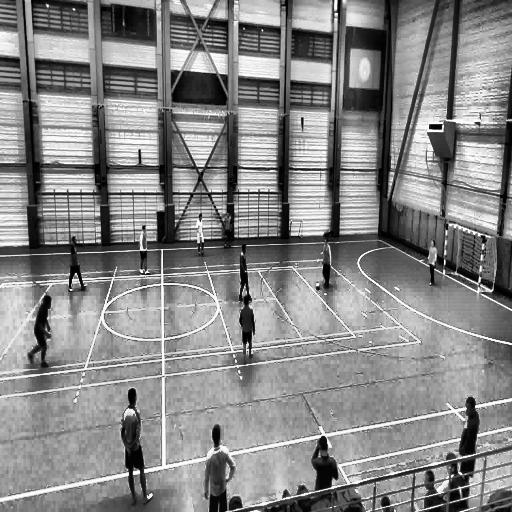ball: (316, 281, 320, 288)
player: (123, 389, 156, 505), (205, 426, 235, 512), (28, 293, 54, 366), (459, 400, 479, 478), (240, 292, 256, 366), (68, 234, 87, 291), (239, 244, 252, 302), (321, 238, 332, 288), (138, 225, 148, 275), (196, 213, 205, 257), (428, 240, 437, 284), (225, 210, 233, 247)
